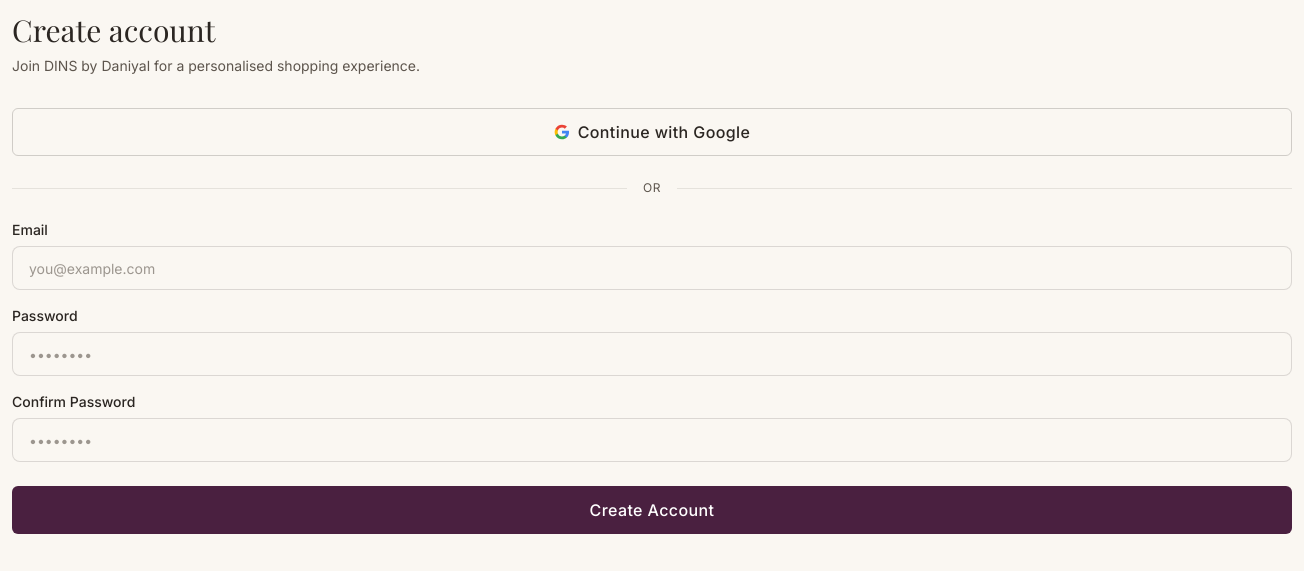
Test: SignupForm › rejects clearly malformed email
Type "not-an-email" into the field labelled "Email" at (652, 268), box [12,246,1292,290]
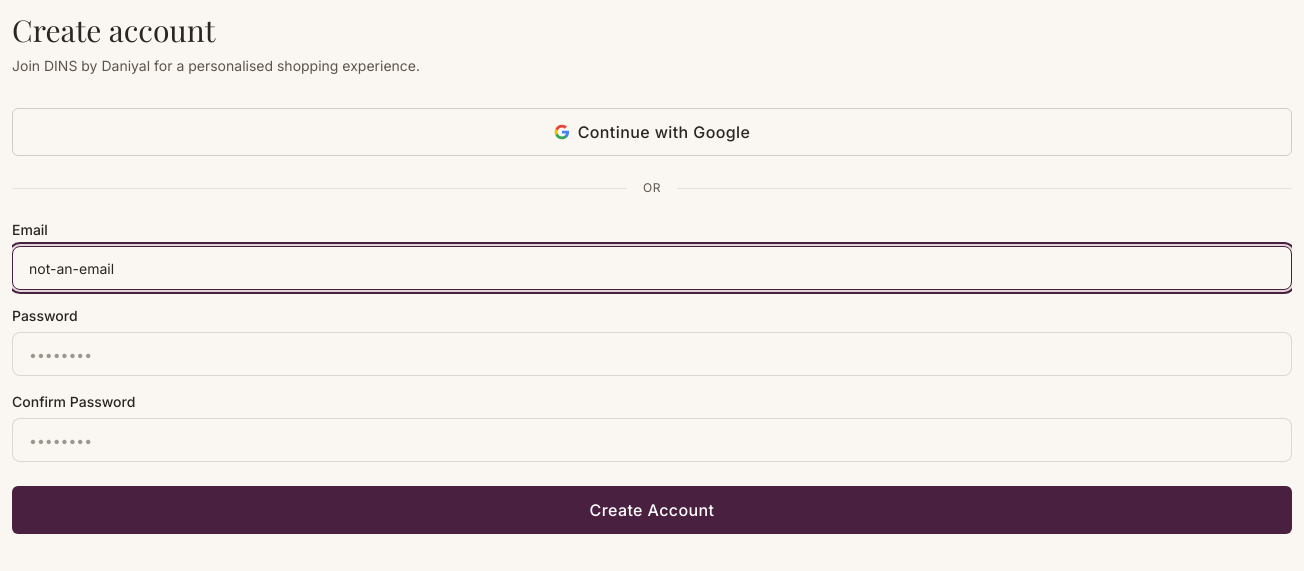
Type "secret123" into the password field labelled "Password" at (652, 354), box [12,332,1292,376]
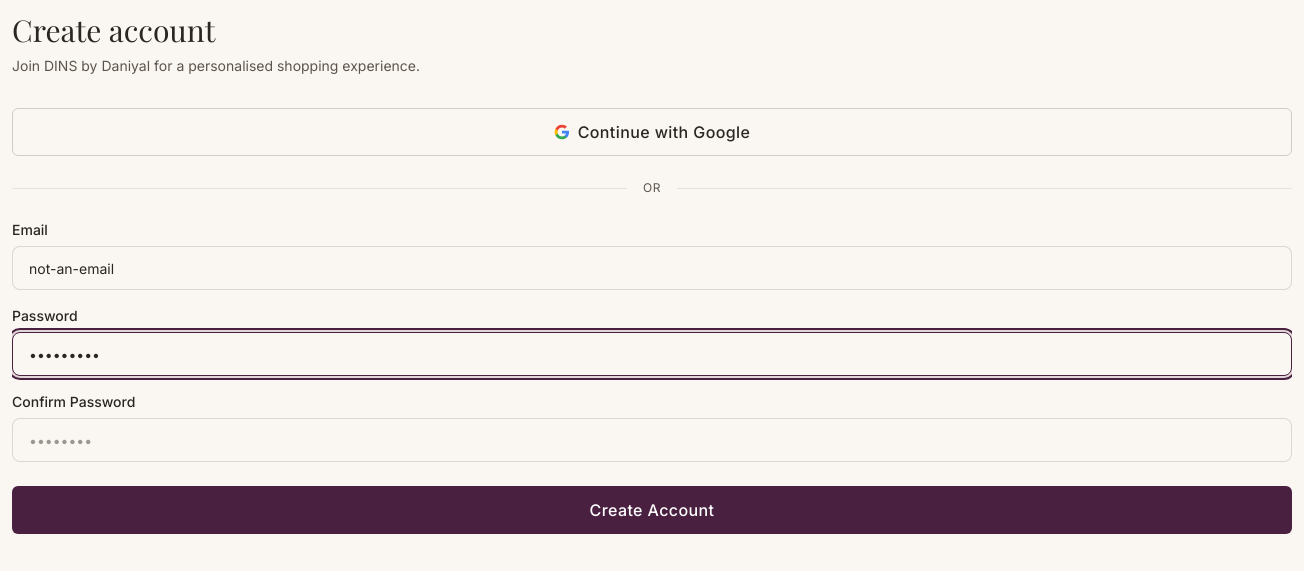
Type "secret123" into the password field labelled "Confirm Password" at (652, 440), box [12,418,1292,462]
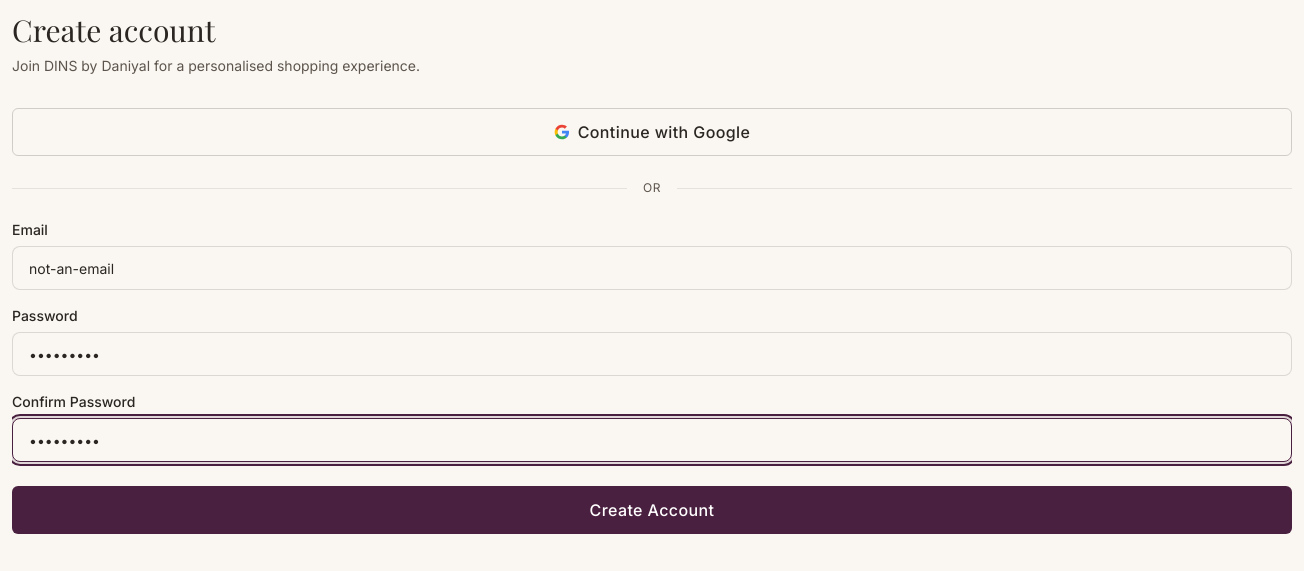
Click the button "Create Account" at (652, 510), box [12,486,1292,534]
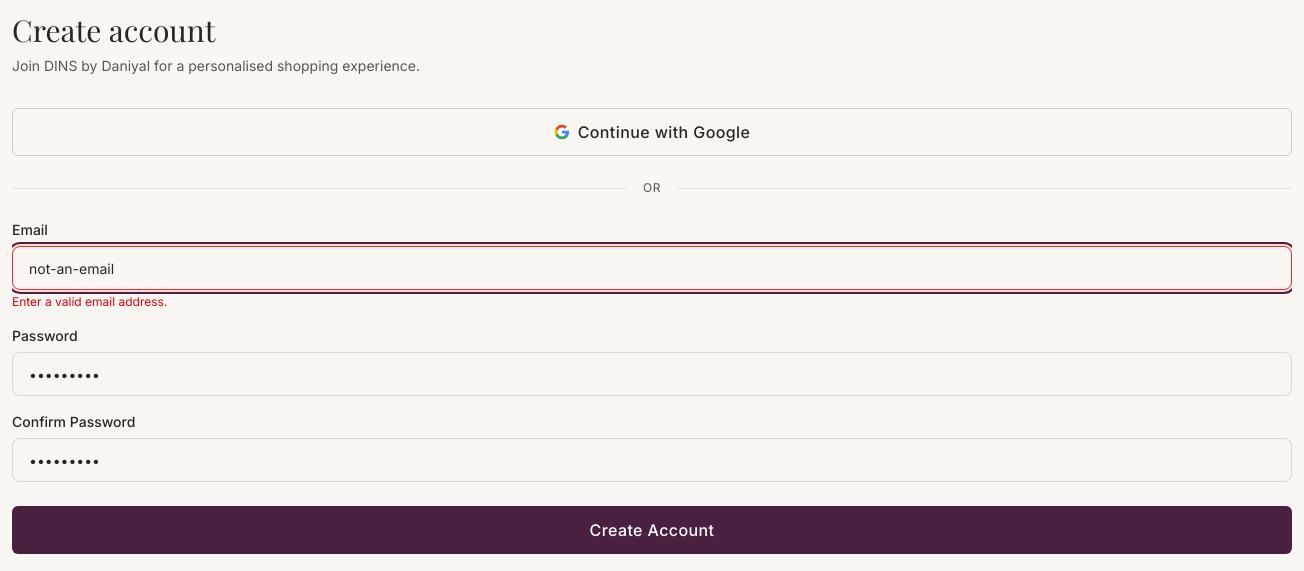
Now the text "Enter a valid email address." is shown, box [12,294,167,309]
